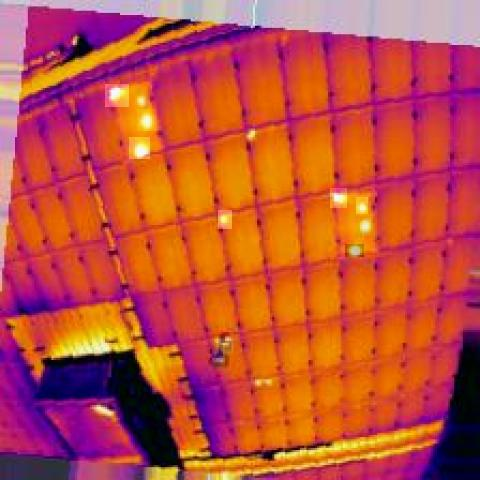fault: (105, 84, 129, 107), (129, 137, 150, 159), (137, 109, 157, 131), (356, 216, 375, 238), (330, 188, 347, 208), (251, 377, 276, 390), (218, 210, 232, 229), (345, 244, 364, 257), (135, 92, 148, 109), (356, 197, 368, 214), (244, 128, 257, 142)
